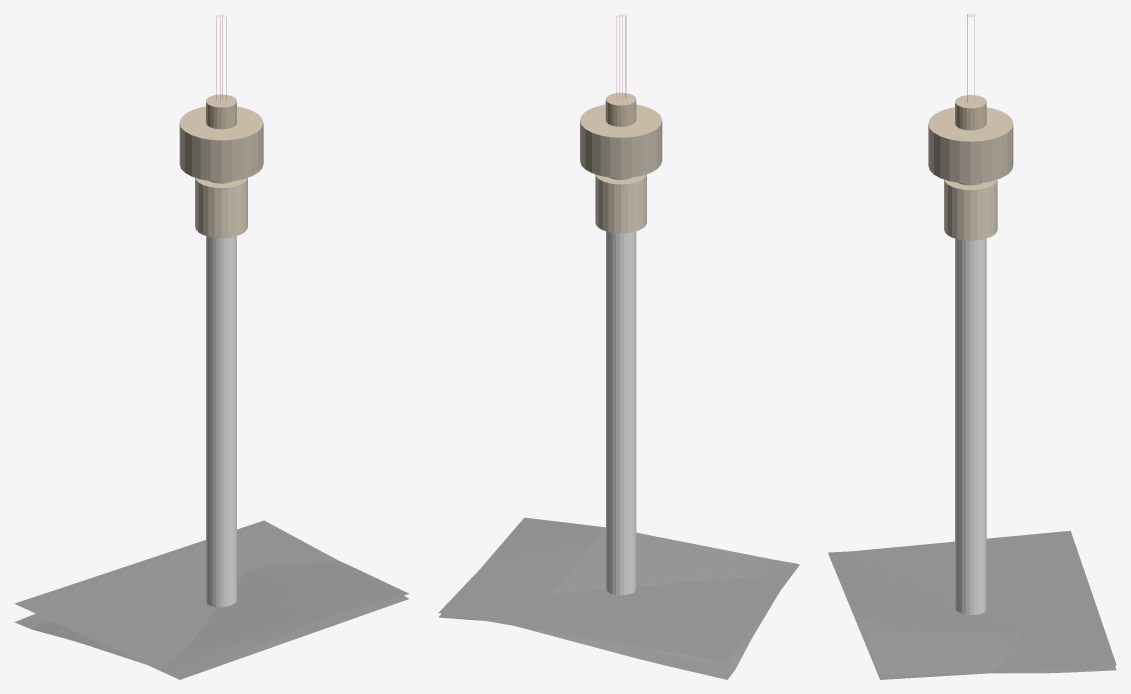
The model's file is hillbrow_tower.glb.
3 views of the same model, side by side, from view 1: azimuth 30°, elevation 25°; view 2: azimuth 150°, elevation 25°; view 3: azimuth 270°, elevation 25° (orthographic). The views are drawn at different scales.
Parts seen in each view (by area): view 1: imagetostl_mesh200, imagetostl_mesh270, imagetostl_mesh268, imagetostl_mesh272, imagetostl_mesh266, imagetostl_mesh298, imagetostl_mesh273, imagetostl_mesh264, imagetostl_mesh262, imagetostl_mesh274, imagetostl_mesh260, imagetostl_mesh275; view 2: imagetostl_mesh200, imagetostl_mesh298, imagetostl_mesh278, imagetostl_mesh280, imagetostl_mesh276, imagetostl_mesh277, imagetostl_mesh282, imagetostl_mesh284, imagetostl_mesh275, imagetostl_mesh250, imagetostl_mesh274, imagetostl_mesh252 (+1 smaller); view 3: imagetostl_mesh200, imagetostl_mesh255, imagetostl_mesh256, imagetostl_mesh257, imagetostl_mesh298, imagetostl_mesh254, imagetostl_mesh258, imagetostl_mesh259, imagetostl_mesh252, imagetostl_mesh260, imagetostl_mesh250, imagetostl_mesh262 (+4 smaller).
Part boxes in pixels (x1=…): imagetostl_mesh200: x1=14, y1=520, x2=409, y2=679; imagetostl_mesh270: x1=216, y1=238, x2=220, y2=607; imagetostl_mesh268: x1=220, y1=238, x2=224, y2=607; imagetostl_mesh272: x1=212, y1=237, x2=216, y2=607; imagetostl_mesh266: x1=224, y1=238, x2=228, y2=606; imagetostl_mesh298: x1=179, y1=106, x2=263, y2=140; imagetostl_mesh273: x1=209, y1=237, x2=212, y2=606; imagetostl_mesh264: x1=228, y1=237, x2=231, y2=605; imagetostl_mesh262: x1=231, y1=237, x2=234, y2=604; imagetostl_mesh274: x1=207, y1=236, x2=209, y2=604; imagetostl_mesh260: x1=234, y1=236, x2=236, y2=603; imagetostl_mesh275: x1=206, y1=236, x2=207, y2=603; imagetostl_mesh200: x1=438, y1=565, x2=799, y2=661; imagetostl_mesh298: x1=580, y1=104, x2=661, y2=137; imagetostl_mesh278: x1=620, y1=233, x2=623, y2=595; imagetostl_mesh280: x1=616, y1=233, x2=619, y2=595; imagetostl_mesh276: x1=627, y1=232, x2=630, y2=594; imagetostl_mesh277: x1=624, y1=233, x2=627, y2=594; imagetostl_mesh282: x1=612, y1=232, x2=615, y2=594; imagetostl_mesh284: x1=609, y1=232, x2=612, y2=593; imagetostl_mesh275: x1=631, y1=232, x2=633, y2=593; imagetostl_mesh250: x1=607, y1=232, x2=609, y2=592; imagetostl_mesh274: x1=633, y1=232, x2=635, y2=591; imagetostl_mesh252: x1=606, y1=231, x2=607, y2=590; imagetostl_mesh200: x1=828, y1=530, x2=1116, y2=679; imagetostl_mesh255: x1=973, y1=240, x2=977, y2=614; imagetostl_mesh256: x1=969, y1=240, x2=973, y2=614; imagetostl_mesh257: x1=965, y1=240, x2=969, y2=614; imagetostl_mesh298: x1=928, y1=107, x2=1013, y2=141; imagetostl_mesh254: x1=977, y1=240, x2=980, y2=614; imagetostl_mesh258: x1=962, y1=240, x2=965, y2=613; imagetostl_mesh259: x1=958, y1=239, x2=961, y2=612; imagetostl_mesh252: x1=981, y1=239, x2=983, y2=613; imagetostl_mesh260: x1=956, y1=239, x2=958, y2=611; imagetostl_mesh250: x1=984, y1=239, x2=985, y2=612; imagetostl_mesh262: x1=955, y1=238, x2=956, y2=610.
Bounding box in the file's own units: 5712 × 10927 × 4672.
